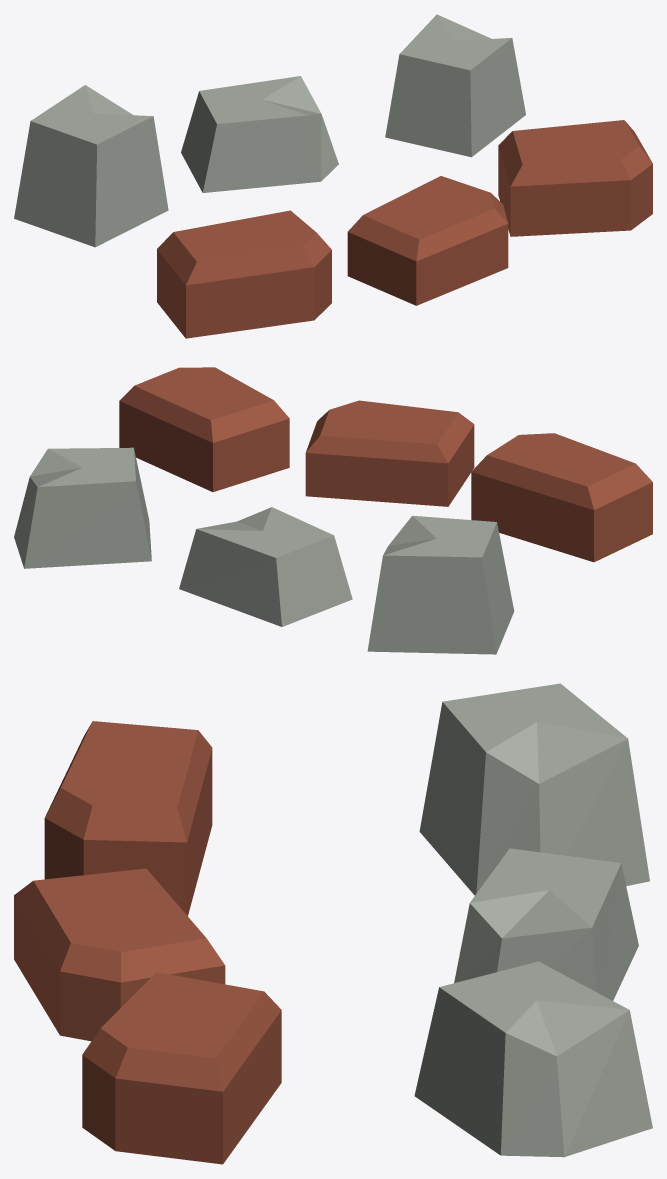
Rendered from bit_rubble.glb.
3 renders of one model, top to bottom at view 1: azimuth 30°, elevation 25°; view 2: azimuth 150°, elevation 25°; view 3: azimuth 270°, elevation 25°, orthographic. The views are drawn at different scales.
Visible parts, largest first — view 1: Brick_Mesh, Concrete_Mesh; view 2: Brick_Mesh, Concrete_Mesh; view 3: Concrete_Mesh, Brick_Mesh.
Part boxes in pixels (box(x1,y1,x2,y2)): Brick_Mesh: box(157, 120, 652, 338); Concrete_Mesh: box(14, 14, 525, 247); Brick_Mesh: box(119, 367, 652, 562); Concrete_Mesh: box(14, 447, 514, 654); Concrete_Mesh: box(414, 683, 652, 1157); Brick_Mesh: box(14, 721, 281, 1164).
Size of the model in its own units: 0.6671 by 0.12 by 0.5075.
